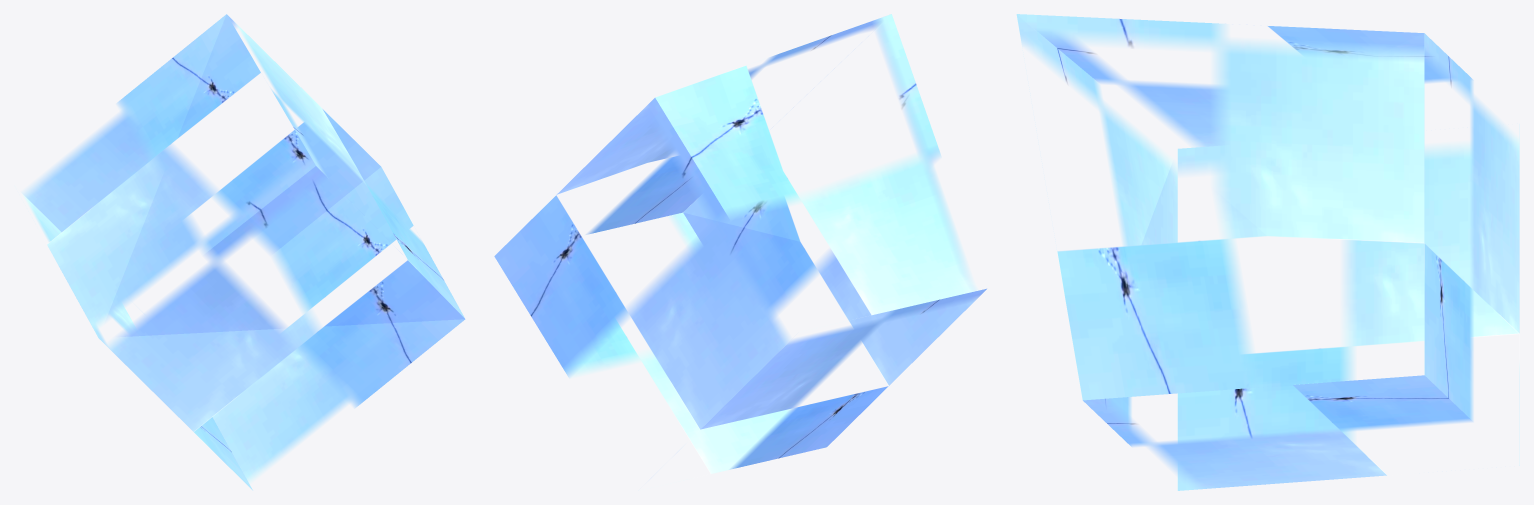
File: cube_test_get-bb.glb
The picture shows the model from 3 angles, left to right: view 1: azimuth 30°, elevation 25°; view 2: azimuth 150°, elevation 25°; view 3: azimuth 270°, elevation 25°; orthographic projection. The views are drawn at different scales.
Parts seen in each view (by area): view 1: Cube; view 2: Cube; view 3: Cube.
Part boxes in pixels (x1,y1,x2,y2): Cube: (21,14,465,490); Cube: (494,14,986,490); Cube: (1016,14,1519,490).
Bounding box in the file's own units: 2.8 × 2.75 × 2.5.
1 material, 1 textured.
